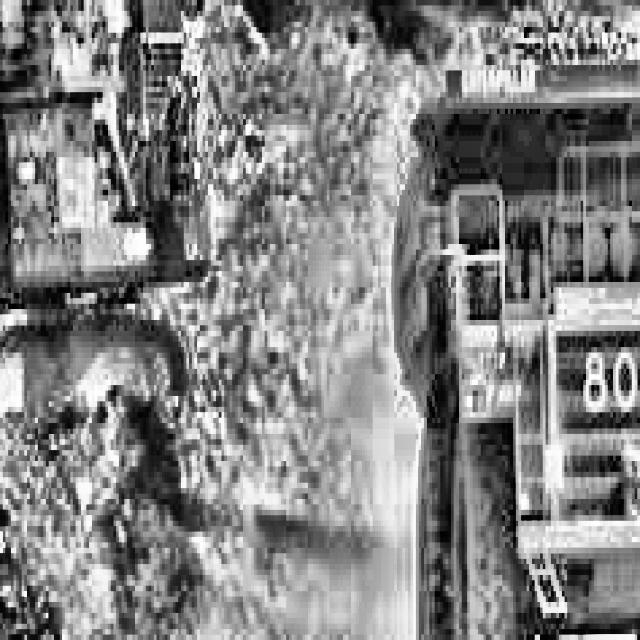dump_truck: (362, 0, 640, 640)
excavator: (0, 0, 248, 591)
